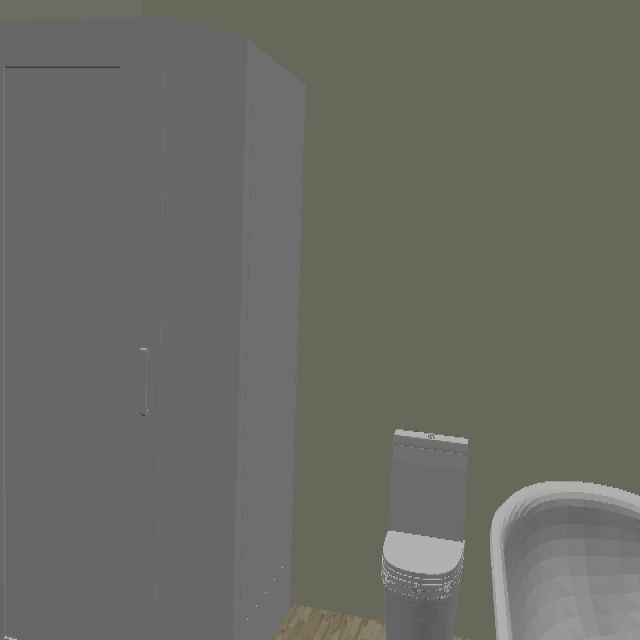bathtube: (489, 481, 640, 640)
shower: (0, 17, 307, 640)
toilet: (382, 429, 471, 640)
